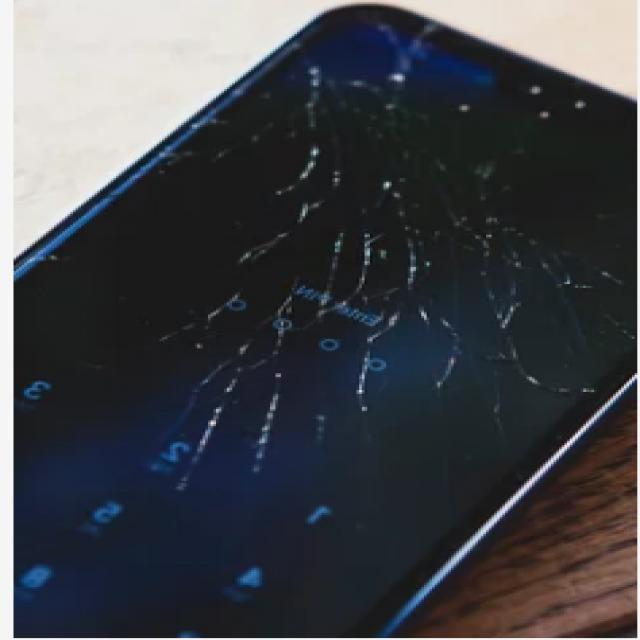Crack: (293, 33, 538, 219), (230, 245, 546, 378)
